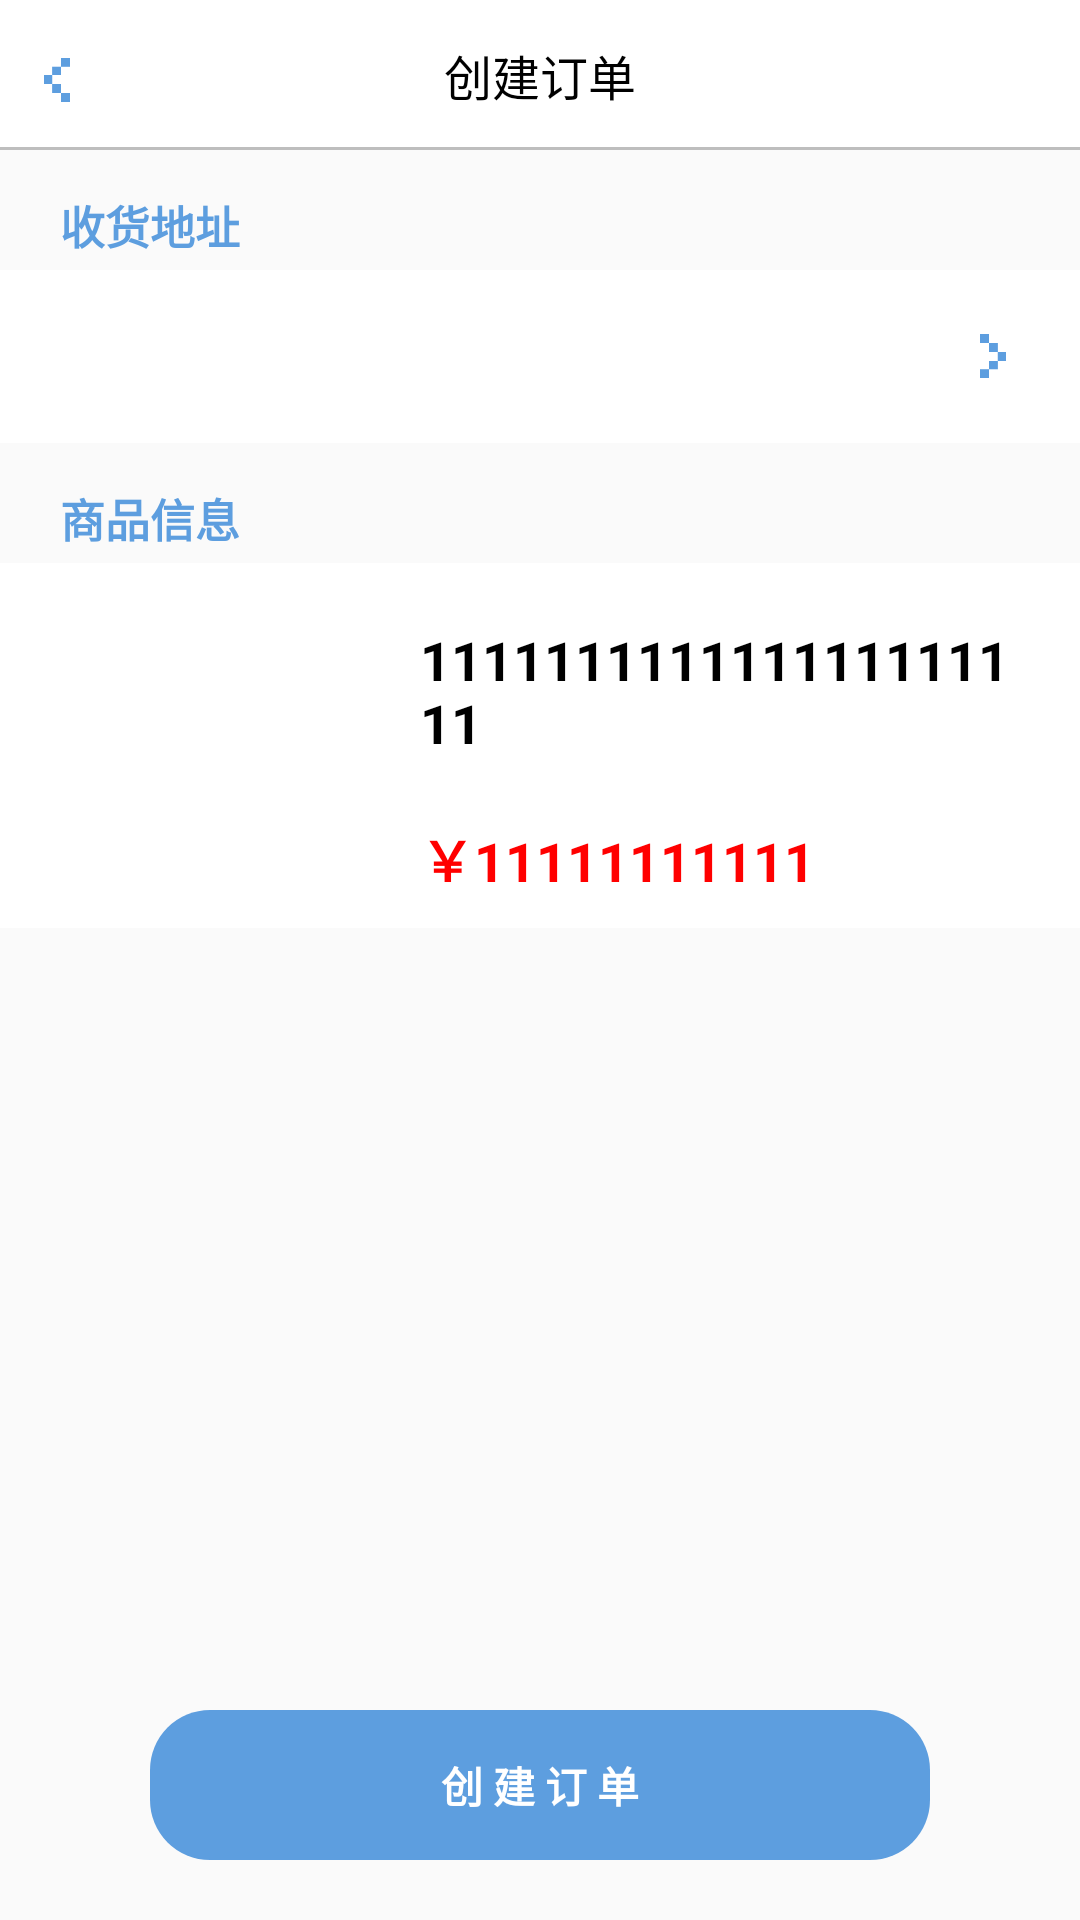

Where icons sit on this 1080*1920 app screen, as bbox(x1, y1, x2, y2):
back: bbox(44, 58, 70, 102)
next: bbox(980, 334, 1006, 378)
